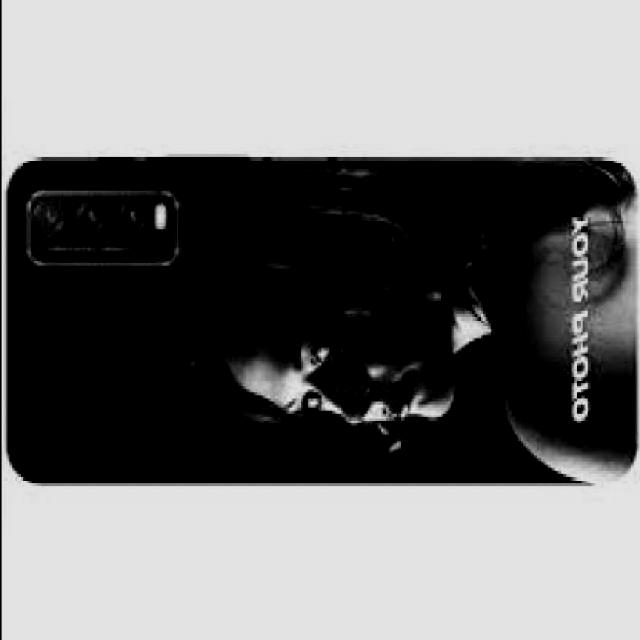fake: (2, 156, 635, 490)
